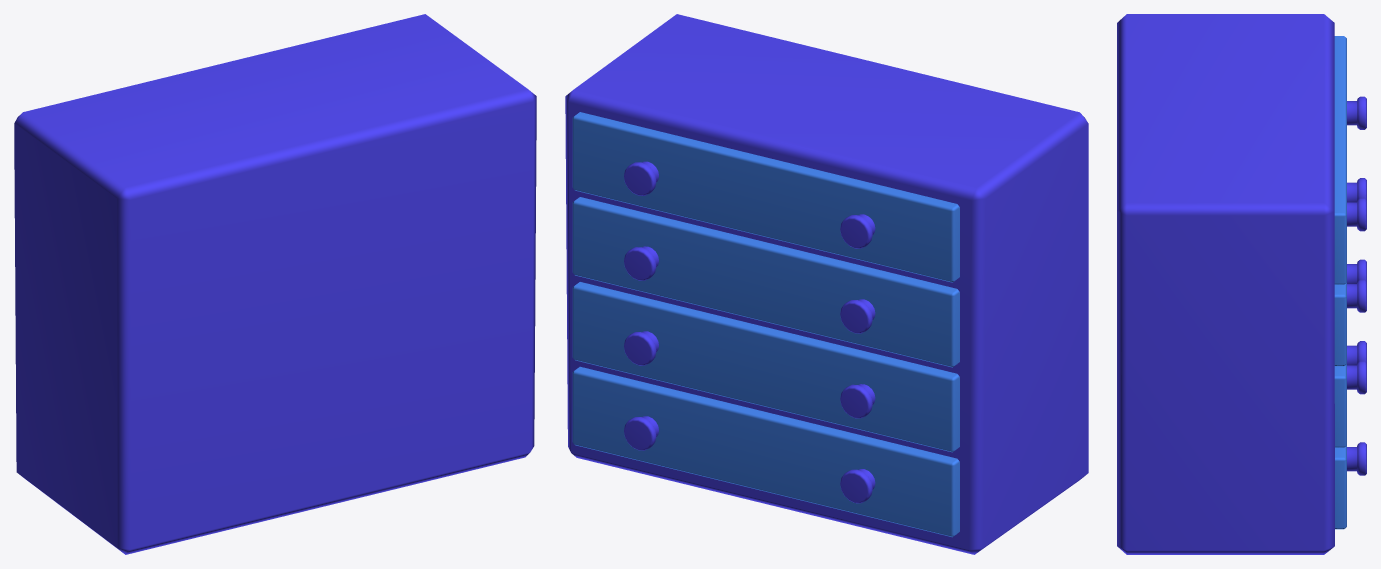
File: Drawers.fbx
3 views of the same model, side by side, from view 1: azimuth 30°, elevation 25°; view 2: azimuth 150°, elevation 25°; view 3: azimuth 270°, elevation 25° (orthographic). The views are drawn at different scales.
Visible parts, largest first — view 1: Drawers; view 2: Drawers; view 3: Drawers.
Boxes of the visible parts, x1,y1,x2,y2 form: Drawers: [14, 14, 536, 554]; Drawers: [565, 14, 1088, 554]; Drawers: [1117, 14, 1366, 554].
Size of the model in its own units: 119 by 99.74 by 63.88.
